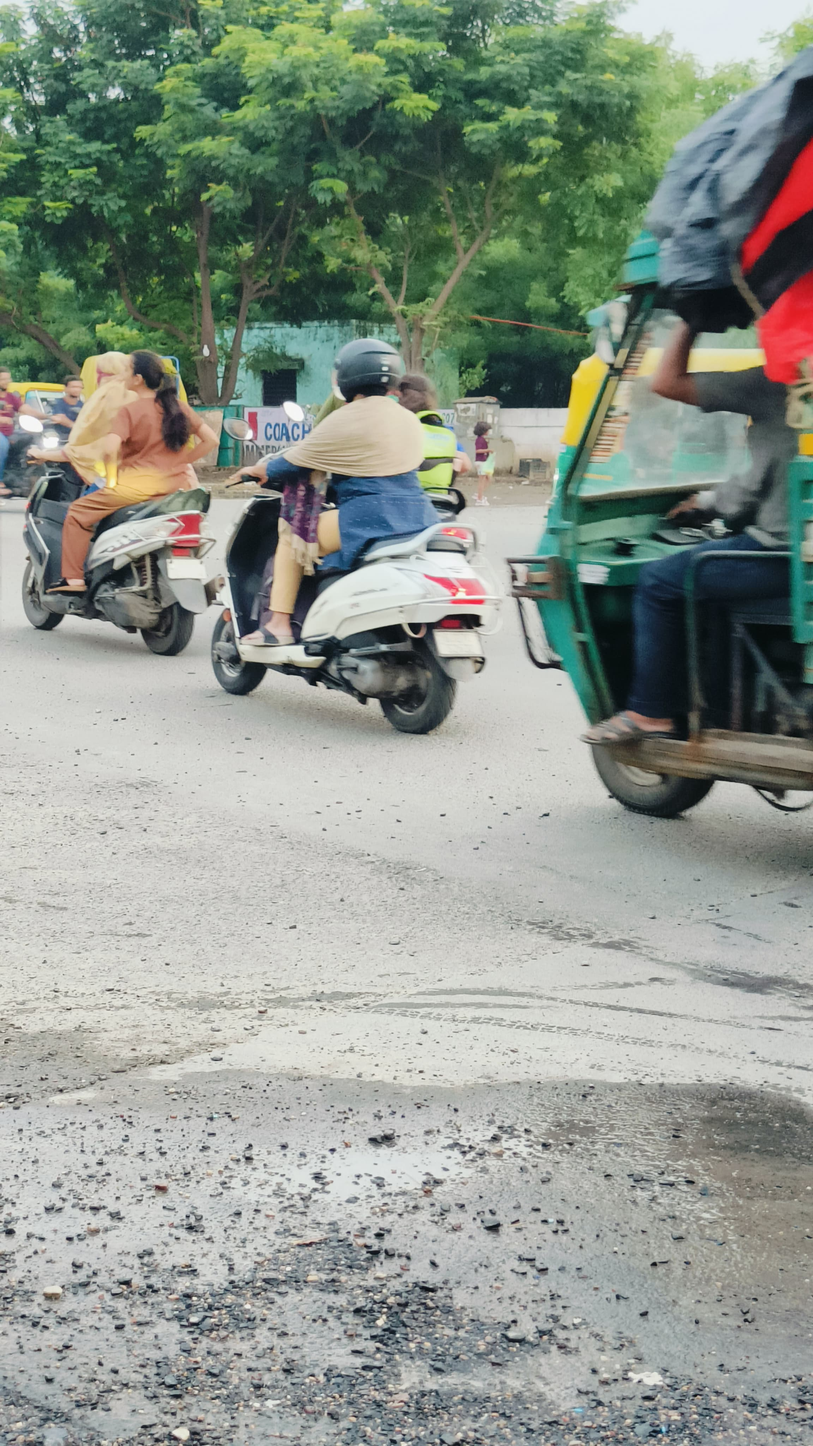BikeWithRider: (218, 333, 510, 737), (15, 342, 220, 662)
Helmet: (327, 334, 408, 403)
NoHelmet: (126, 345, 181, 402), (86, 342, 132, 396)
